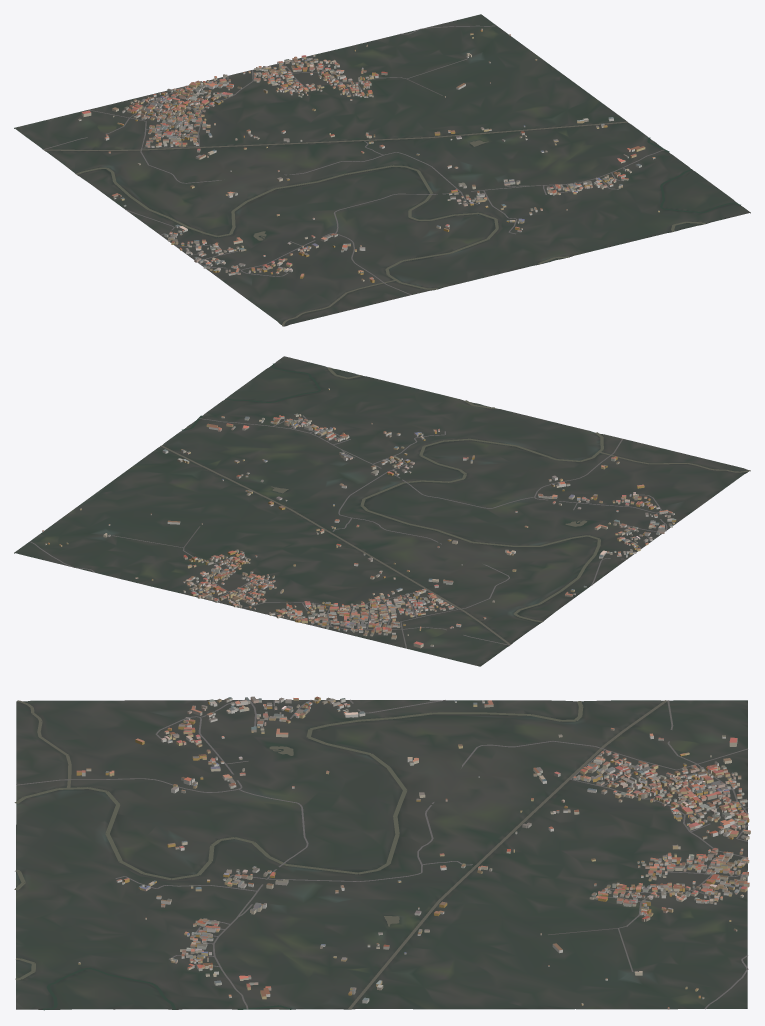
The picture shows the model from 3 angles, top to bottom: view 1: azimuth 30°, elevation 25°; view 2: azimuth 150°, elevation 25°; view 3: azimuth 270°, elevation 25°; orthographic projection. The views are drawn at different scales.
Visible parts, largest first — view 1: ground, buildings, water, roads; view 2: ground, buildings, water, roads; view 3: ground, buildings, water, roads.
Part boxes in pixels (<box>): ground: <box>14,14,750,326</box>; buildings: <box>78,28,659,282</box>; water: <box>44,121,740,326</box>; roads: <box>43,25,665,294</box>; ground: <box>14,356,750,666</box>; buildings: <box>42,388,676,648</box>; water: <box>160,363,750,644</box>; roads: <box>29,415,667,648</box>; ground: <box>16,700,747,1009</box>; buildings: <box>76,696,750,1009</box>; water: <box>14,700,667,1010</box>; roads: <box>16,699,748,1009</box>.
Bounding box in the file's own units: 1407 × 17.29 × 1412.
